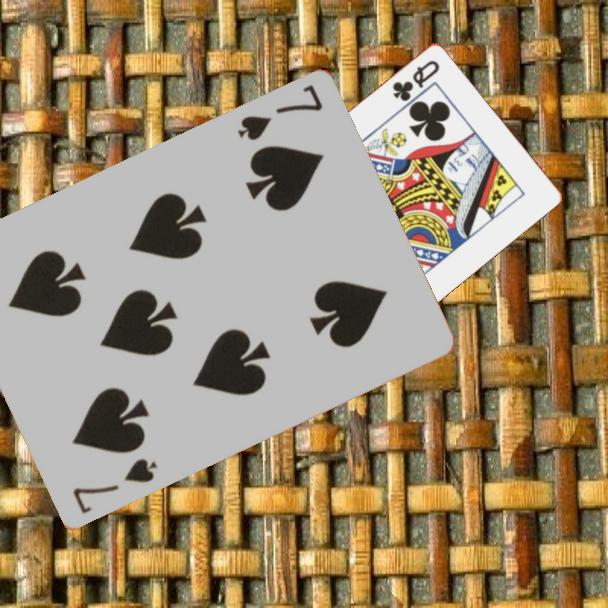c12: (389, 56, 443, 104)
s07: (233, 81, 326, 144), (69, 455, 160, 518)
